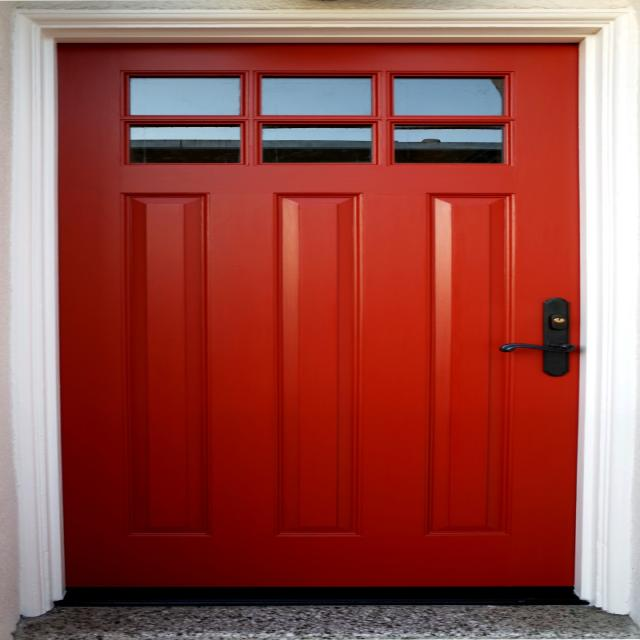door-handle: (499, 344, 576, 352)
